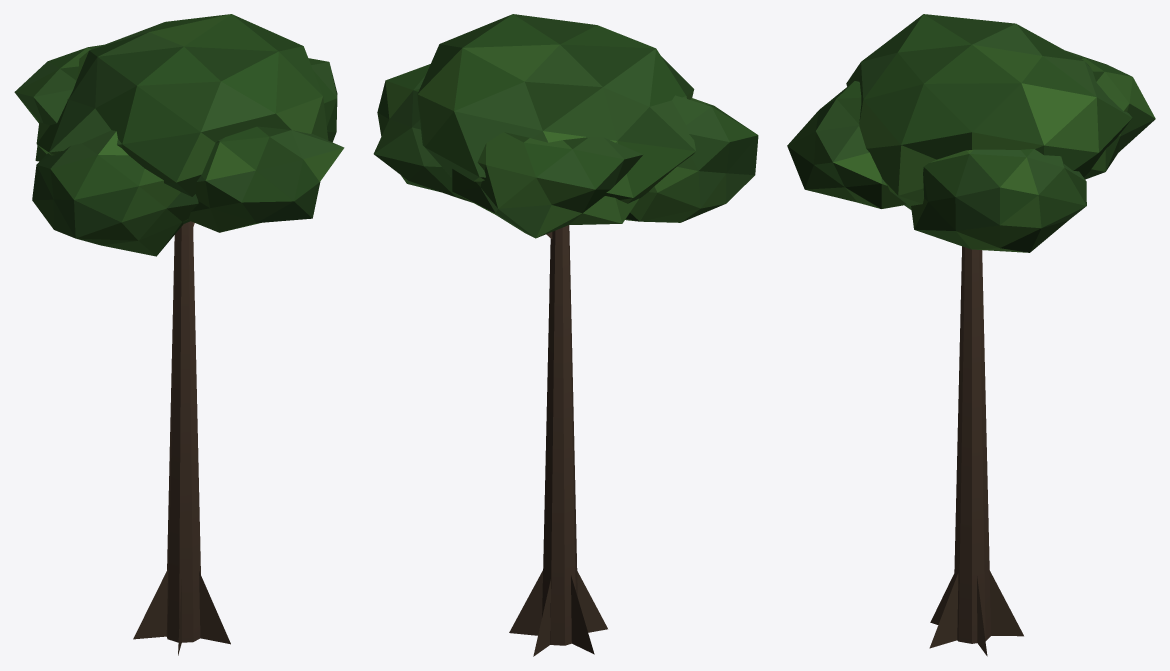
File: fr_tree_a.glb
The picture shows the model from 3 angles, left to right: view 1: azimuth 30°, elevation 25°; view 2: azimuth 150°, elevation 25°; view 3: azimuth 270°, elevation 25°; orthographic projection.
Parts seen in each view (by area): view 1: fr_tree_a; view 2: fr_tree_a; view 3: fr_tree_a.
Boxes of the visible parts, x1,y1,x2,y2 form: fr_tree_a: (14, 14, 344, 655); fr_tree_a: (373, 14, 758, 656); fr_tree_a: (787, 14, 1155, 656).
Size of the model in its own units: 10.68 by 18.72 by 10.58.
